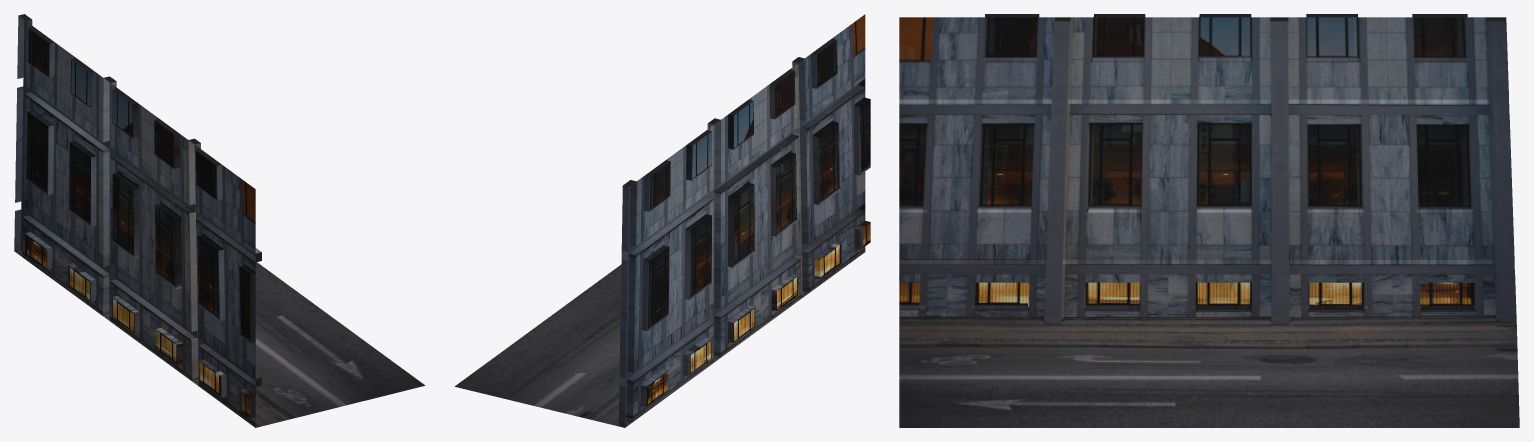
File: SideOfBuilding.fbx
3 renders of one model, left to right at view 1: azimuth 30°, elevation 25°; view 2: azimuth 150°, elevation 25°; view 3: azimuth 270°, elevation 25°, orthographic. The views are drawn at different scales.
Parts seen in each view (by area): view 1: SideOfBuilding; view 2: SideOfBuilding; view 3: SideOfBuilding.
Boxes of the visible parts, x1,y1,x2,y2 form: SideOfBuilding: [14, 14, 424, 427]; SideOfBuilding: [455, 14, 870, 427]; SideOfBuilding: [899, 14, 1519, 427].
Bounding box in the file's own units: 59.73 × 77.73 × 143.
